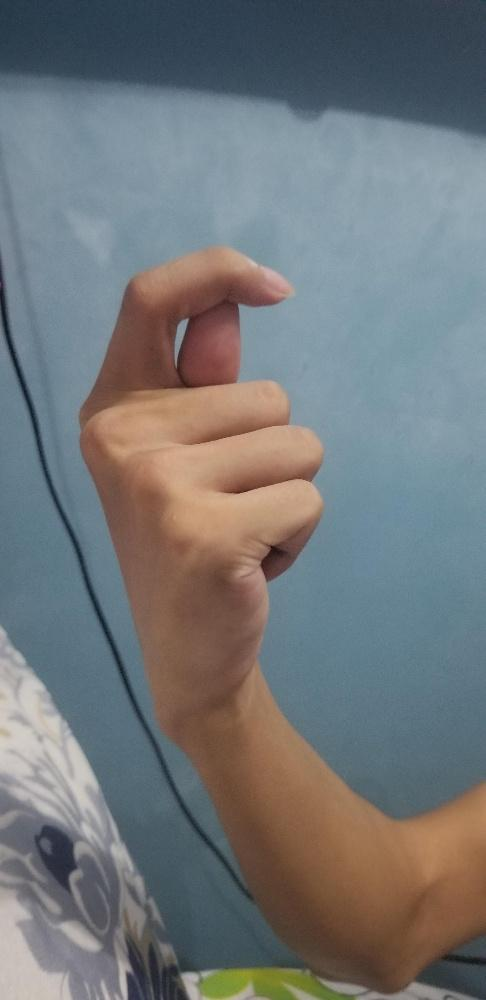t: (75, 243, 328, 726)
